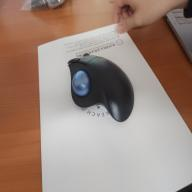mouse: (67, 51, 135, 122)
